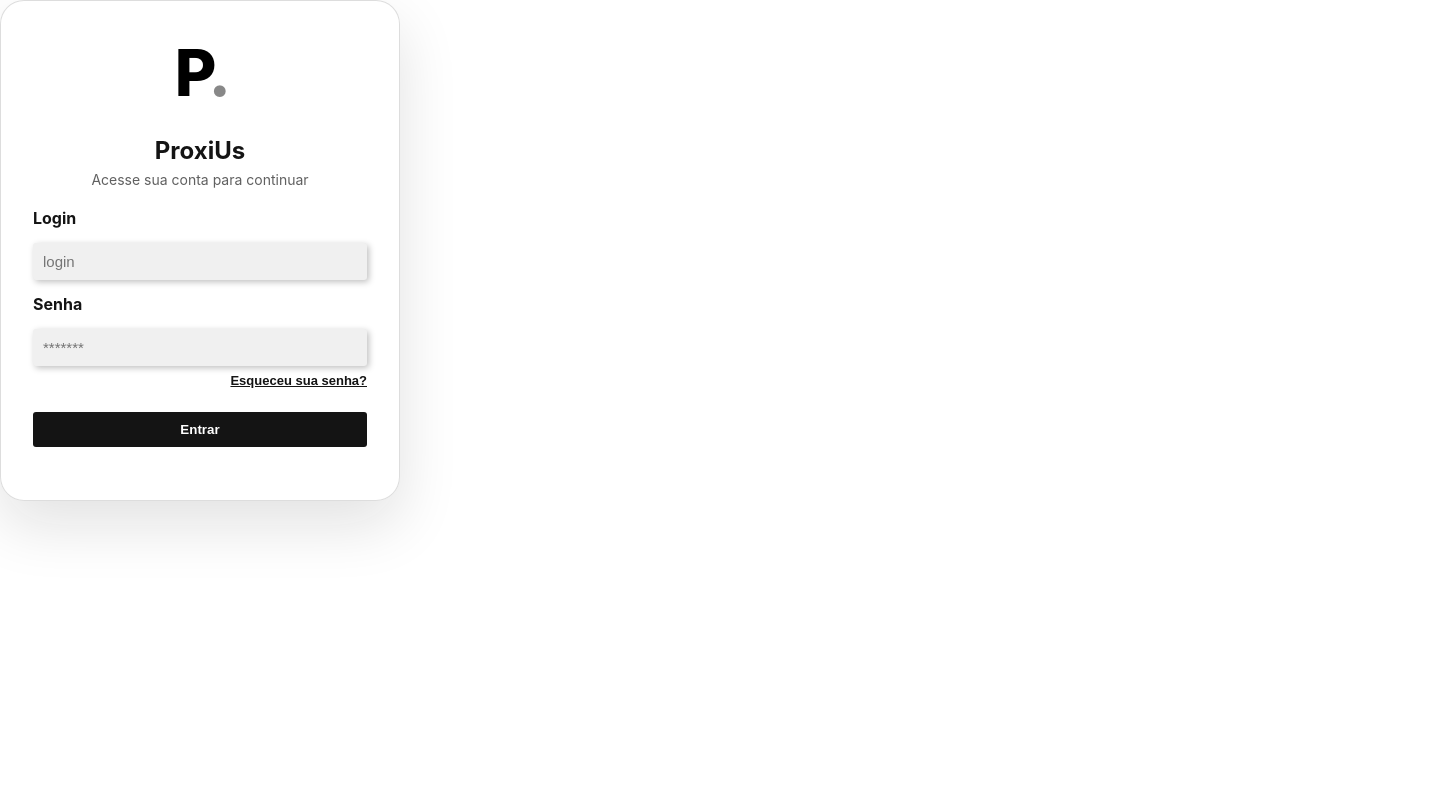
Test: shows backend errors in a persistent modal and restores focus after closing
In the field with placeholder "login": (200, 261) [33,243,367,280], type "usuario"
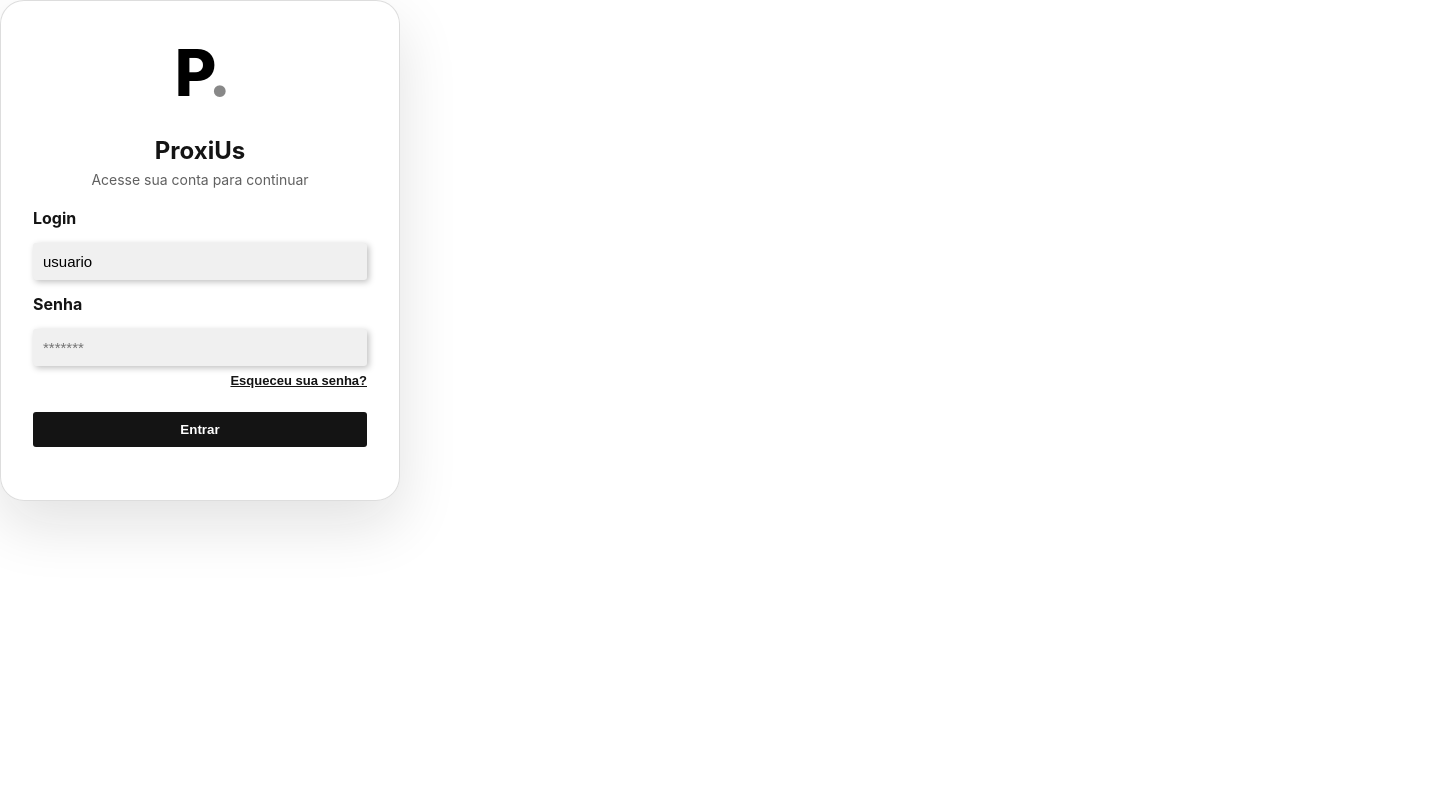
In the password field with placeholder "*******": (200, 347) [33,329,367,366], type "senha"
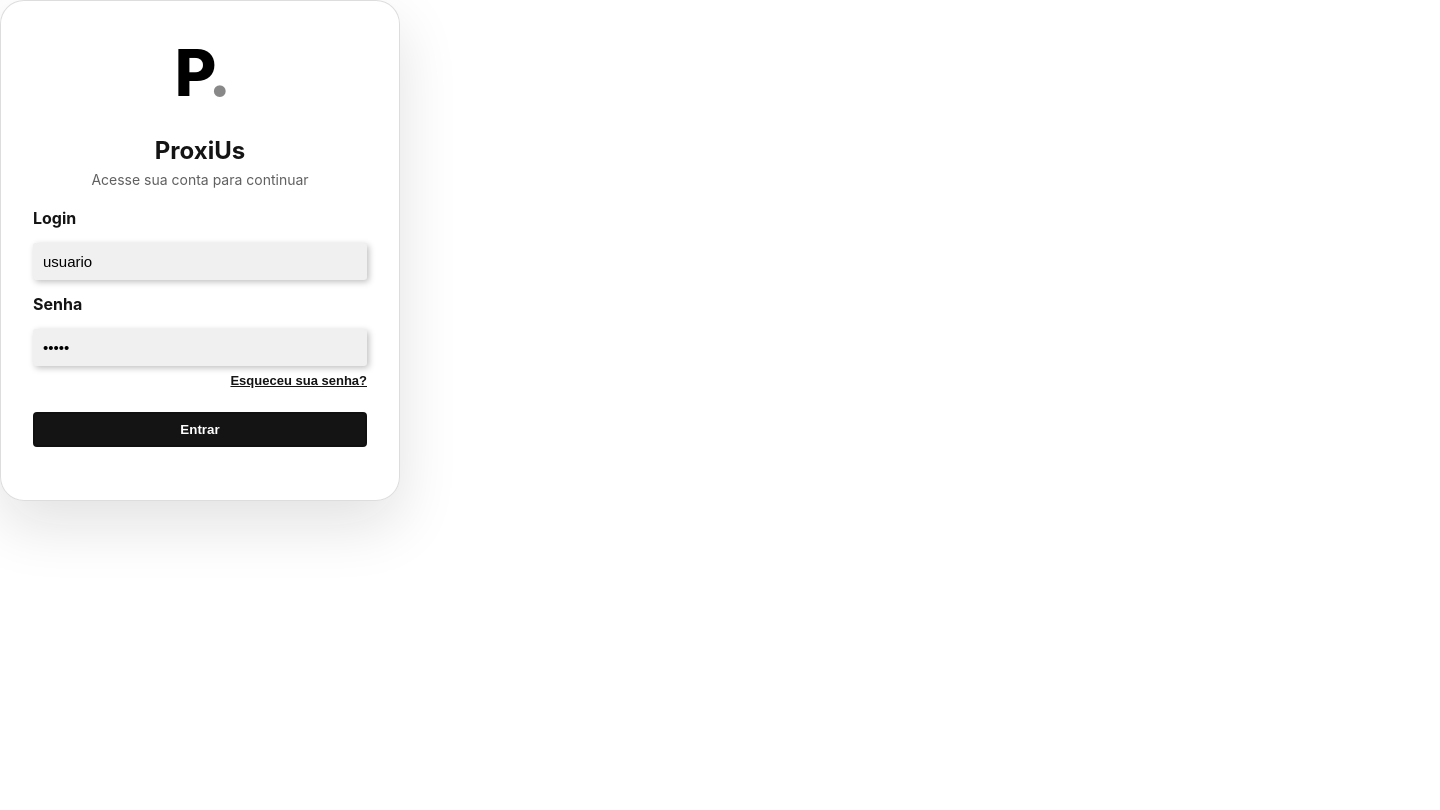
Click the button "Entrar": (200, 429) [33,412,367,446]
Wait 6000 ms
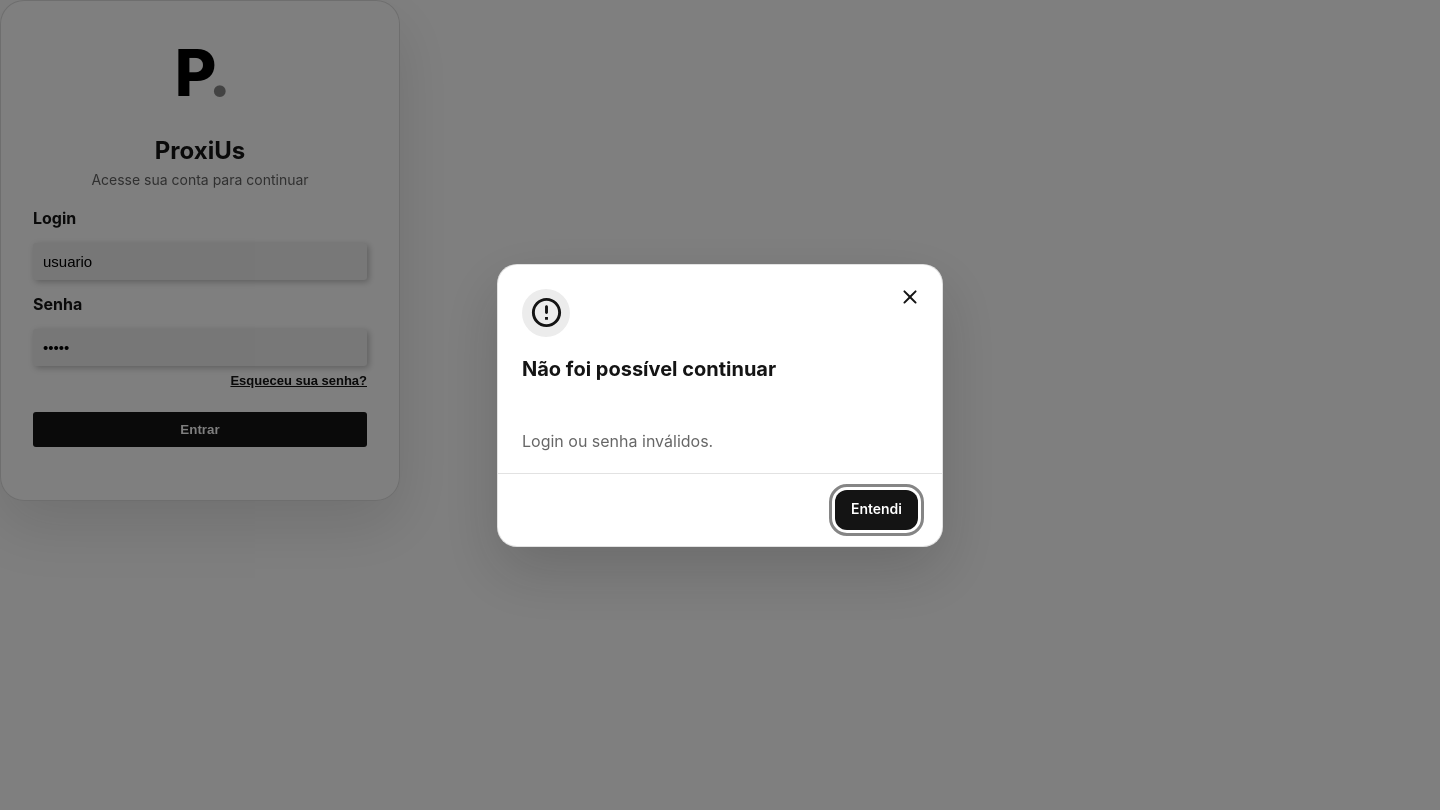
expect the text "Login ou senha inválidos." is shown: met, box [522,430,713,450]
expect the dialog is shown: met, box [497,264,943,546]
Click the button "Entendi": (876, 510) [835,490,918,530]
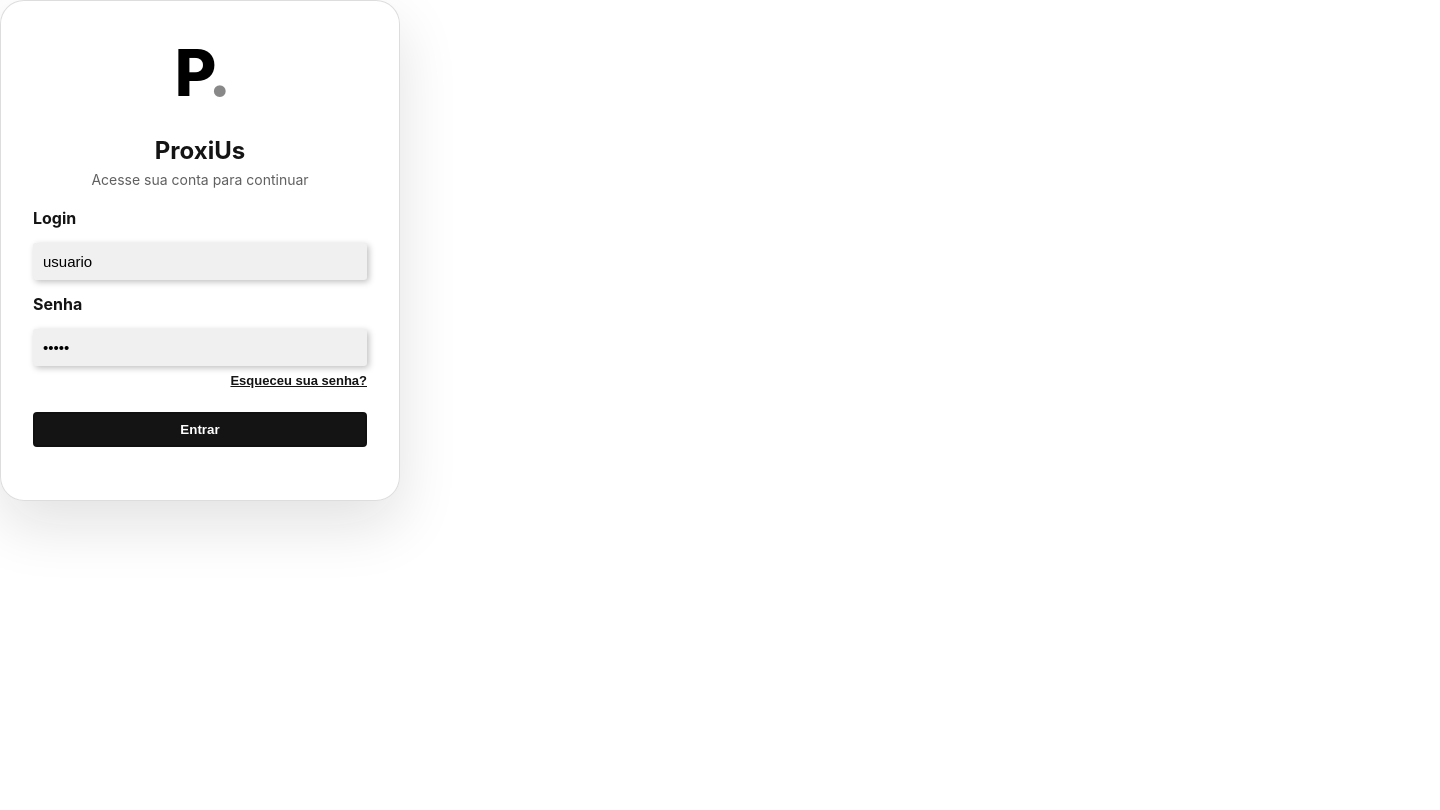
expect the dialog is gone: met
